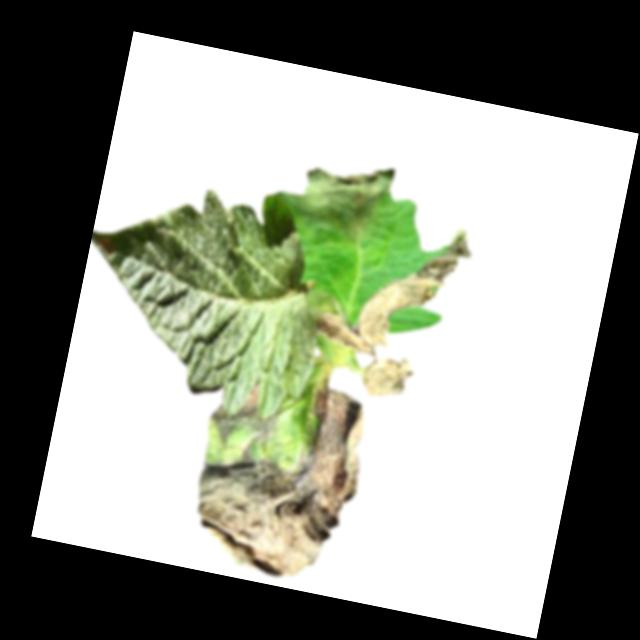Late_blight: (178, 362, 377, 591), (308, 203, 479, 374), (273, 147, 397, 243), (351, 347, 417, 405), (309, 347, 355, 388)
healthy: (64, 167, 342, 428)
